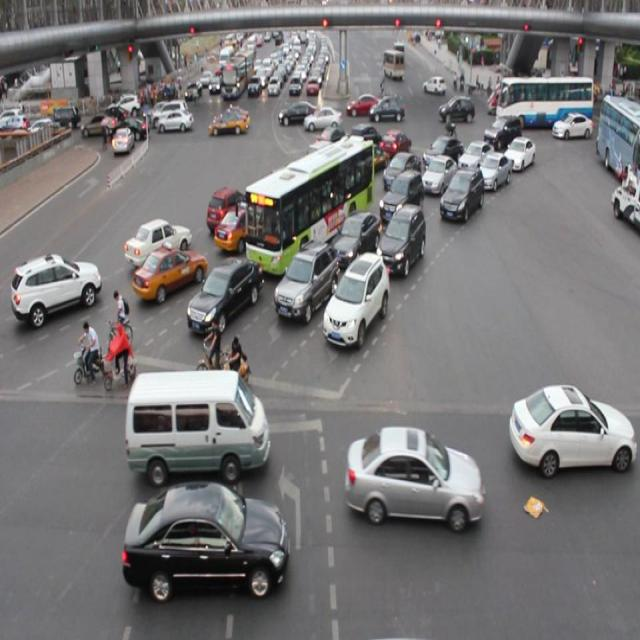car: (126, 481, 286, 600), (347, 425, 481, 529), (506, 383, 640, 469), (322, 252, 389, 345), (10, 250, 100, 319), (187, 258, 263, 329), (274, 242, 336, 318), (132, 244, 205, 302), (376, 203, 424, 271), (124, 219, 191, 266), (328, 210, 381, 265), (214, 204, 273, 248), (438, 166, 482, 222), (378, 169, 422, 223), (206, 187, 254, 230), (261, 166, 307, 209), (382, 150, 419, 196), (314, 166, 360, 203), (275, 188, 319, 226), (422, 136, 462, 173), (346, 140, 385, 175), (483, 119, 520, 155), (422, 156, 454, 194), (458, 139, 492, 174), (476, 153, 508, 190), (350, 124, 381, 157), (504, 136, 534, 169), (380, 130, 410, 162), (316, 127, 346, 155)
truck: (128, 369, 270, 474), (300, 142, 339, 177)
van: (244, 138, 372, 276)
